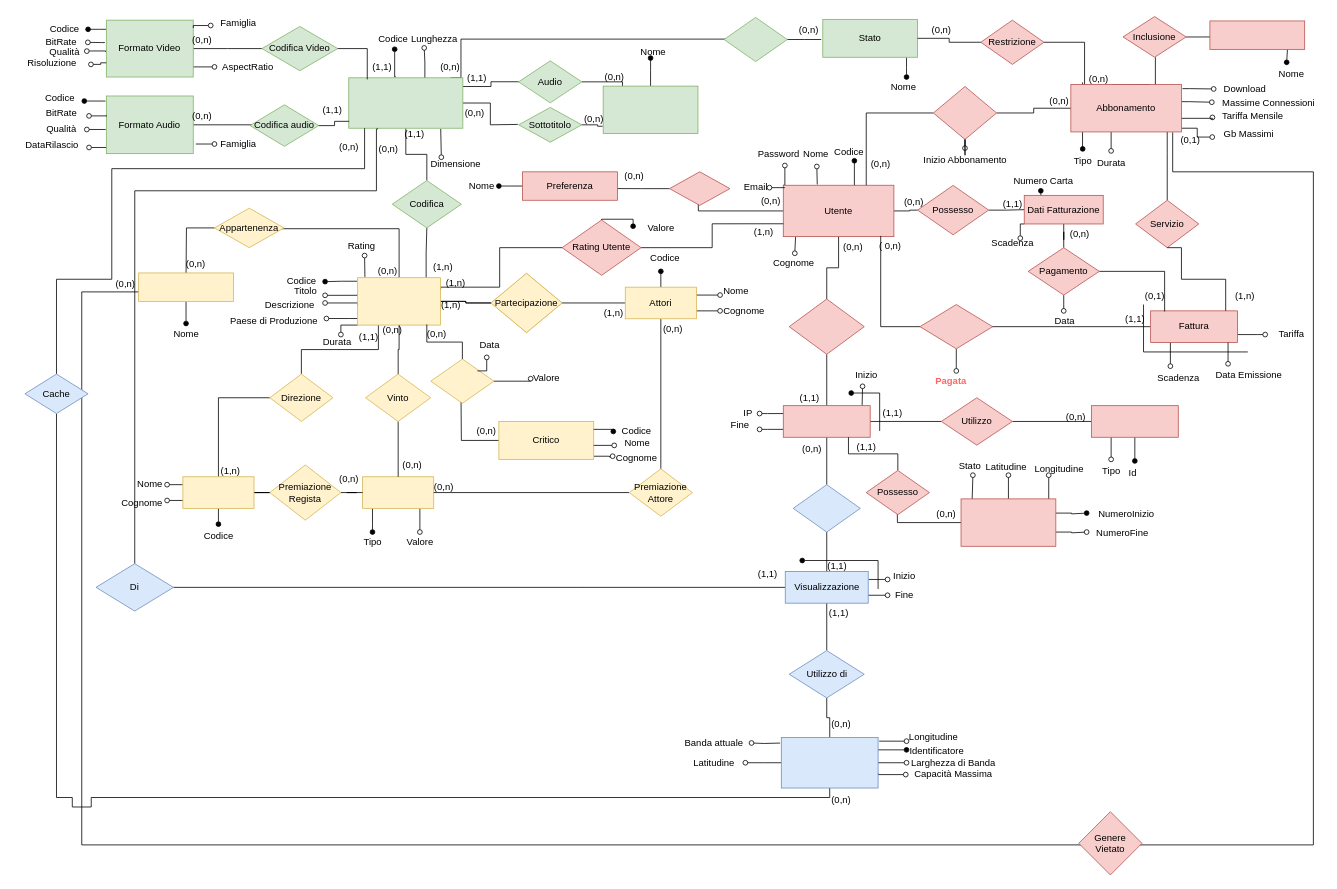
The diagram is 1337 pixels wide and 889 high, and some of its shapes have lost their labels. Here are the shapes that lost their labels. From the top down, the centre of each, then its label:
the point at 755,39: Vietato
the point at 1257,34: Contenuto
the point at 405,102: Film Codificato
the point at 650,109: Lingua
the point at 965,112: Acquisto
the point at 699,188: Selezione
the point at 185,286: Genere
the point at 399,301: Film
the point at 826,326: Inizializzazione
the point at 956,326: UtenteFattura
the point at 462,380: Recensione
the point at 826,421: Connessione
the point at 1134,421: Dispositivo
the point at 218,492: Regista
the point at 398,492: Premio
the point at 826,508: Richiesta
the point at 1008,522: Posizione
the point at 829,762: Server
